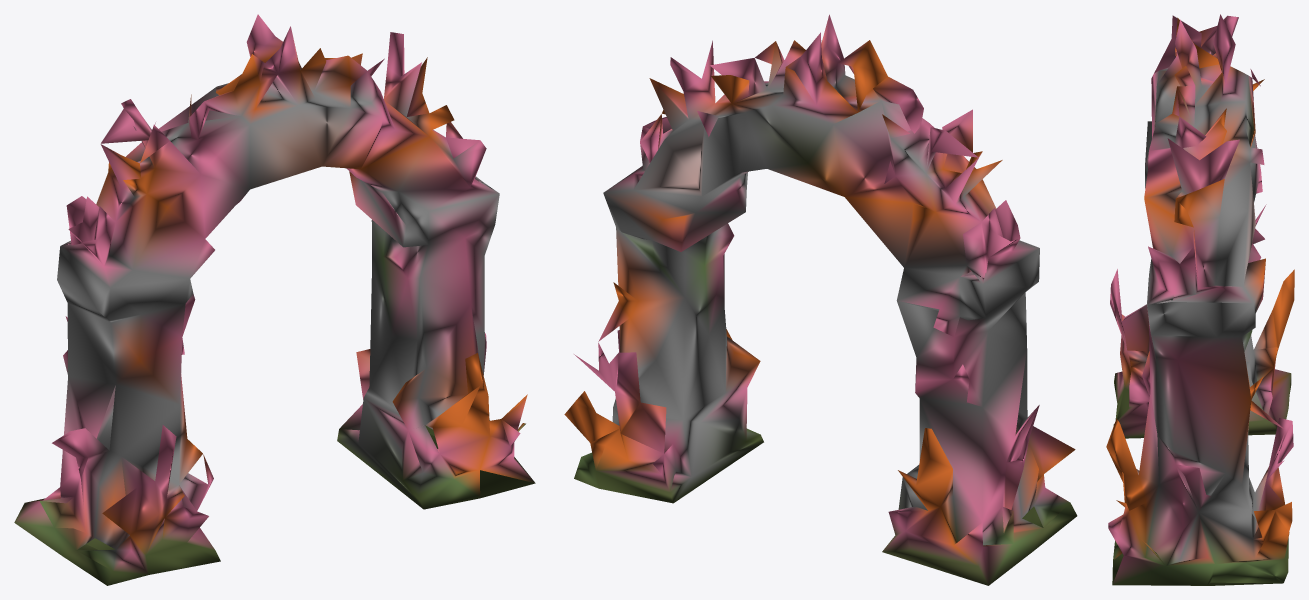
The model's file is gen3d-coral-covered-archway-lod1.glb.
The picture shows the model from 3 angles, left to right: view 1: azimuth 30°, elevation 25°; view 2: azimuth 150°, elevation 25°; view 3: azimuth 270°, elevation 25°; orthographic projection. The views are drawn at different scales.
Visible parts, largest first — view 1: part_0; view 2: part_0; view 3: part_0.
Boxes of the visible parts, x1=… form: part_0: x1=14, y1=14, x2=535, y2=585; part_0: x1=564, y1=14, x2=1077, y2=585; part_0: x1=1106, y1=14, x2=1294, y2=585.
Size of the model in its own units: 0.9517 by 0.9993 by 0.3629.
